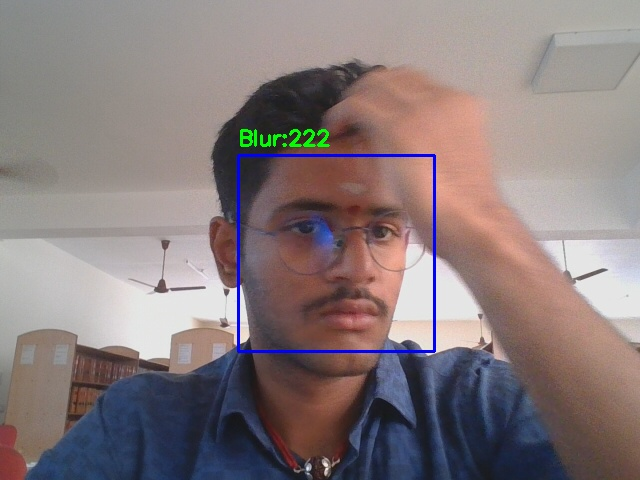real: (238, 155, 434, 351)
